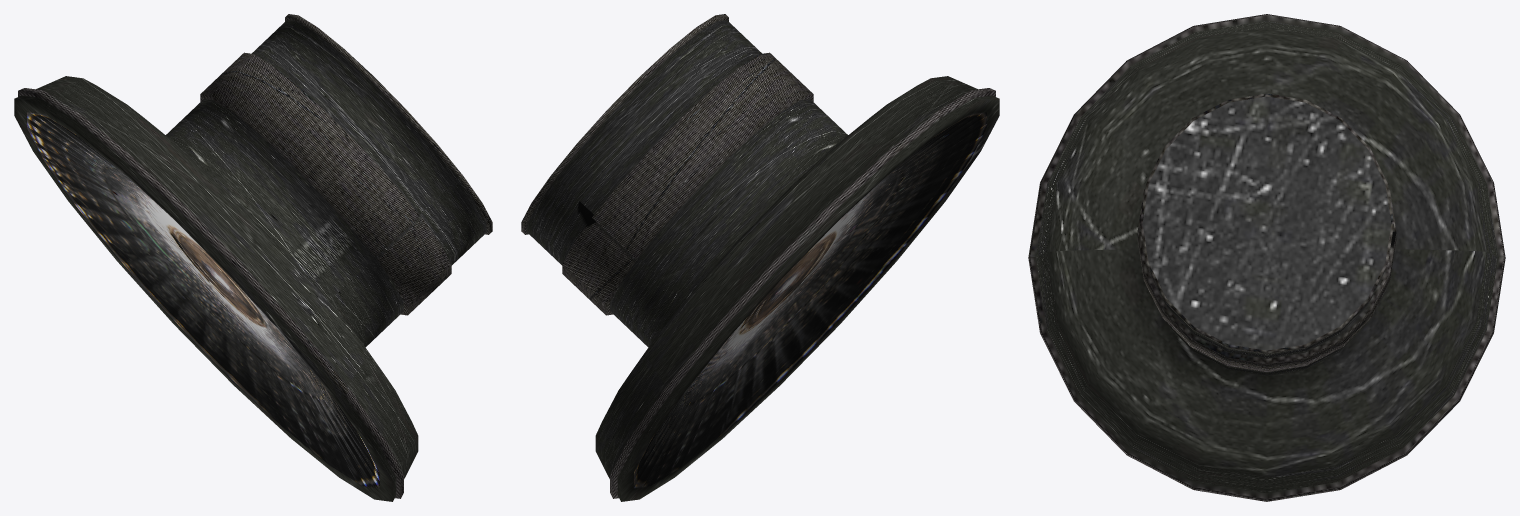
The model's file is foco.obj.
3 views of the same model, side by side, from view 1: azimuth 30°, elevation 25°; view 2: azimuth 150°, elevation 25°; view 3: azimuth 270°, elevation 25° (orthographic). The views are drawn at different scales.
Parts seen in each view (by area): view 1: Sphere; view 2: Sphere; view 3: Sphere.
Boxes of the visible parts, left/top/right/bottom form: Sphere: left=14, top=14, right=492, bottom=501; Sphere: left=521, top=14, right=999, bottom=501; Sphere: left=1028, top=14, right=1505, bottom=501.
Size of the model in its own units: 0.4911 by 0.5406 by 0.5885.
1 material, 1 textured.
